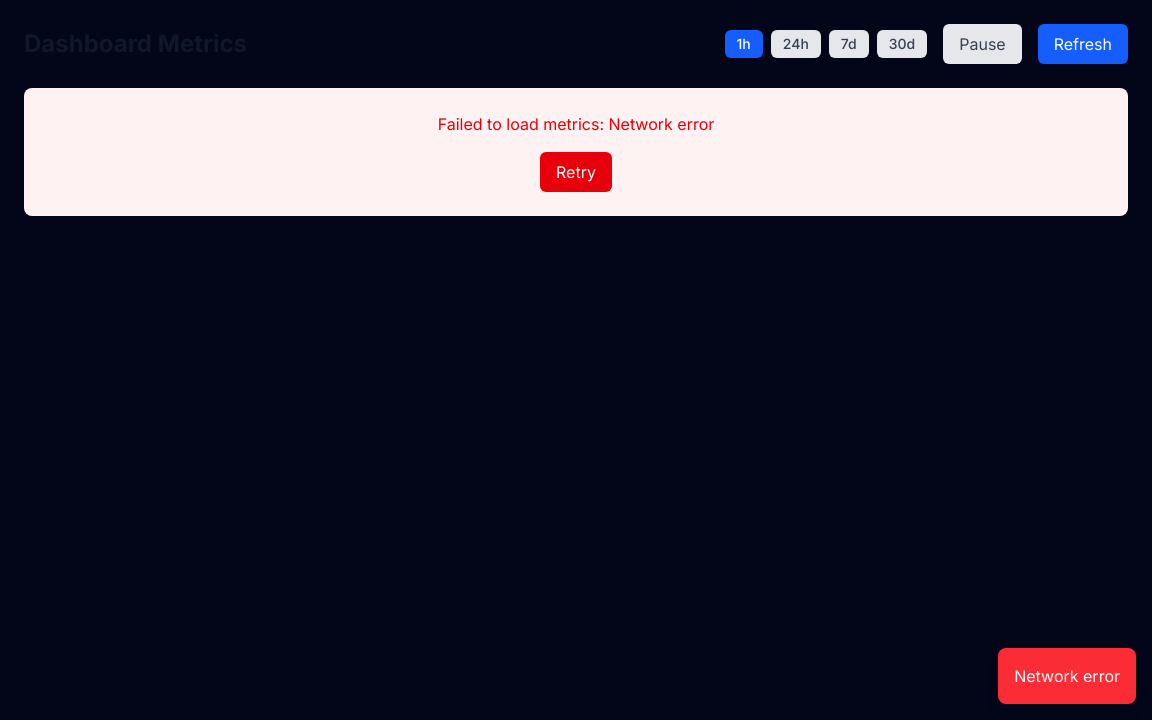
Test: StatsCardWidget › Error Handling › should allow retry after error
Expected: the text "Failed to load metrics: Network error" is shown, [438,114,714,134]
Click the button "Retry". click: (576, 172)
box: [540,152,612,192]
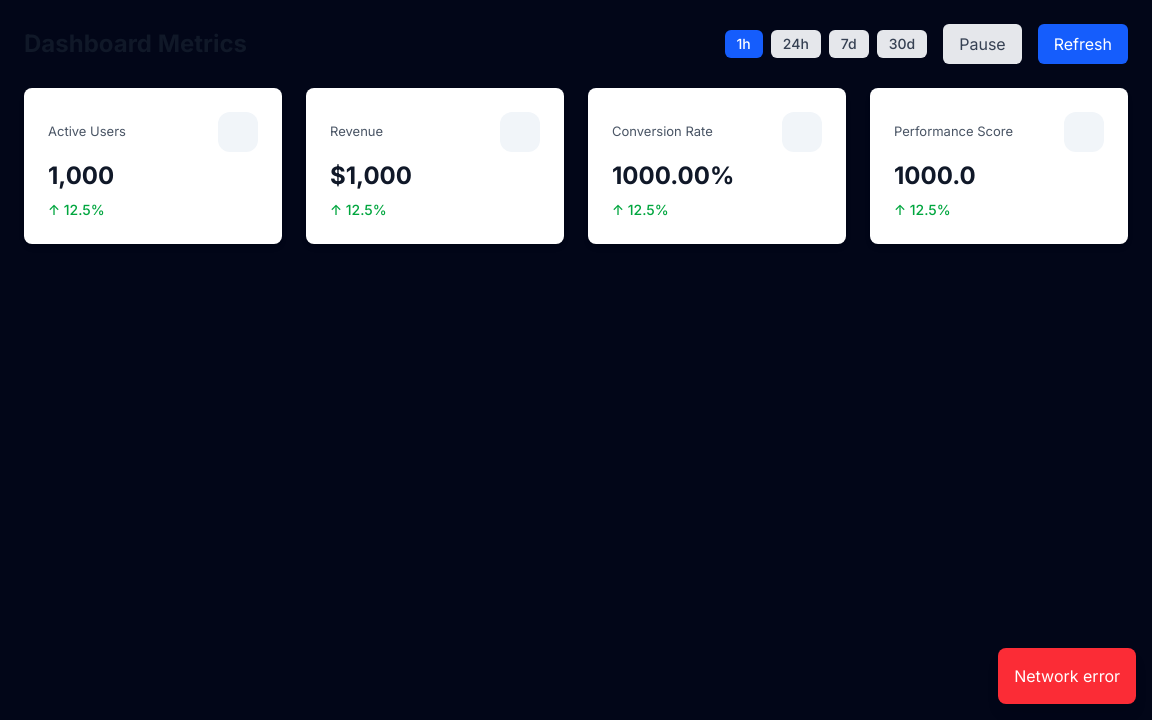
Result: the text "Failed to load" is gone
